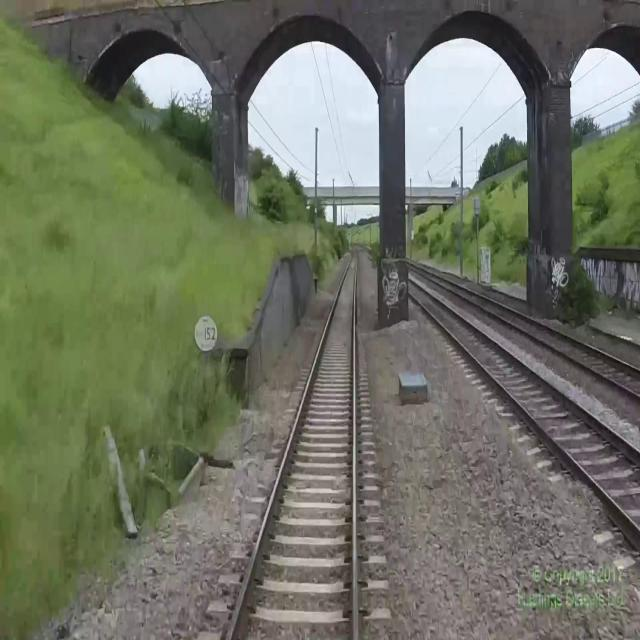rail-track: (408, 278, 640, 526), (230, 246, 356, 639), (408, 263, 640, 393)
